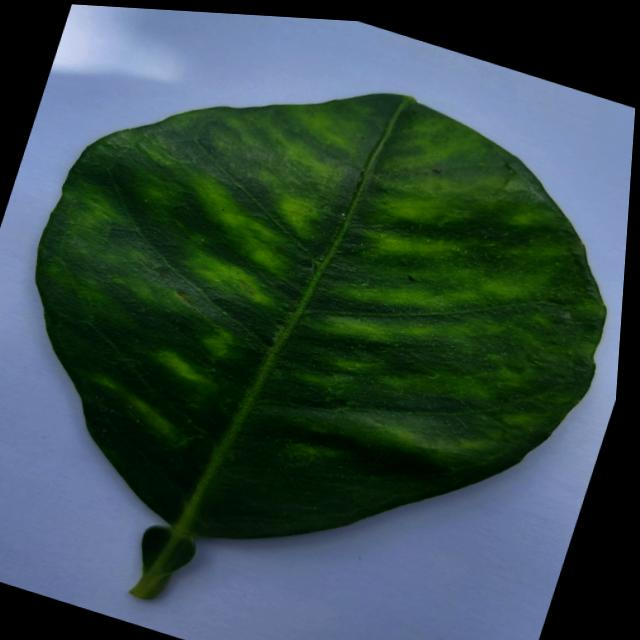greening: (36, 93, 604, 597)
